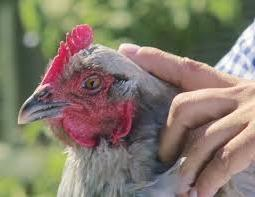AbNormal: (43, 23, 95, 86)
